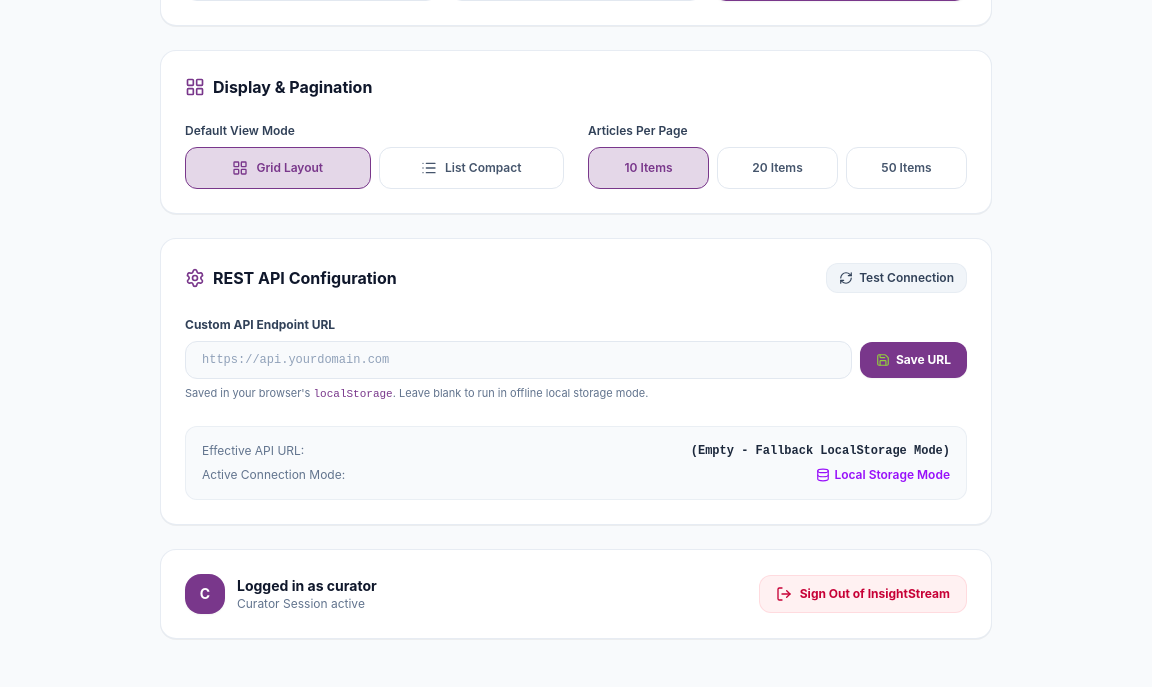
Test: PreferencesPage › shows account info and signs out when requested
(page scrolled)
Expected: the text "Logged in as curator" is shown, [237, 576, 377, 596]
Click the button "Sign Out of InsightStream" at (863, 594), box [759, 575, 967, 613]
(page scrolled)
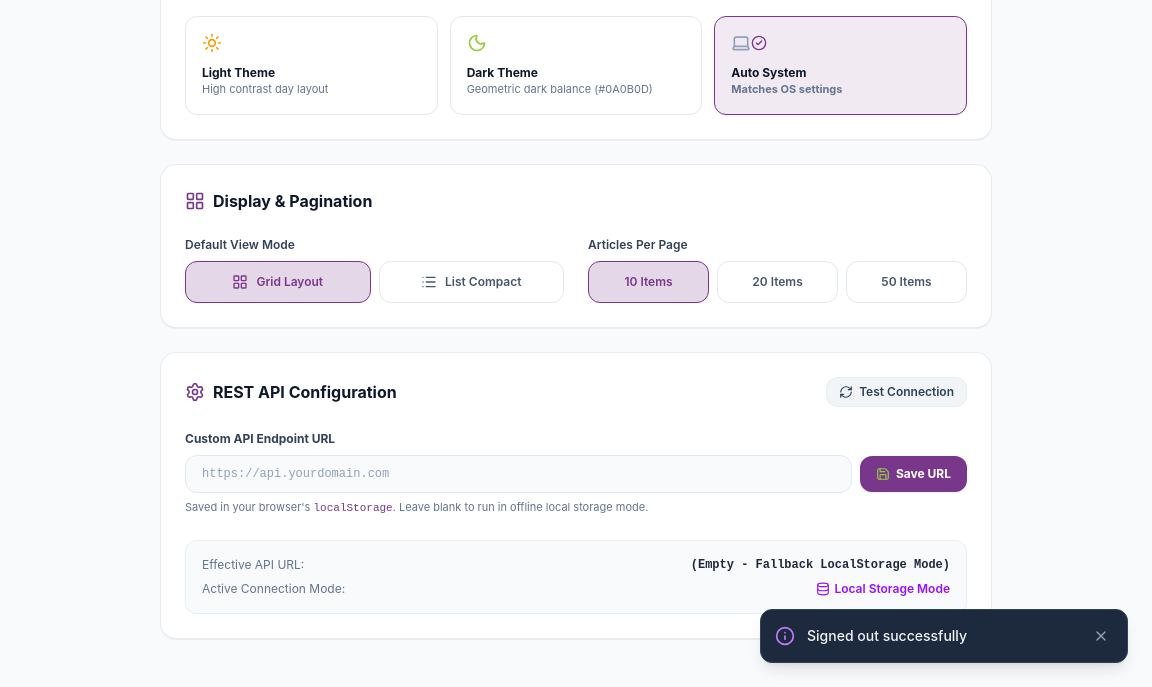
Result: the text "Signed out successfully" is shown at [807, 626, 967, 646]
